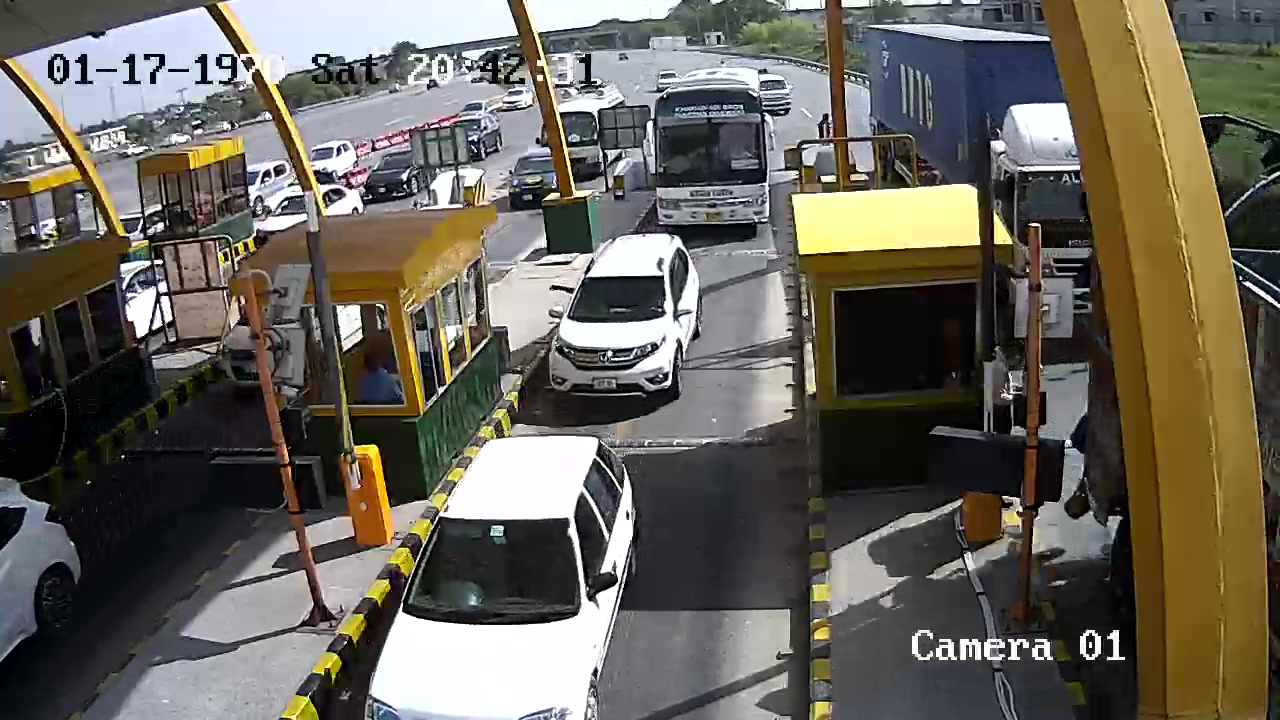F1: (529, 235, 732, 410)
